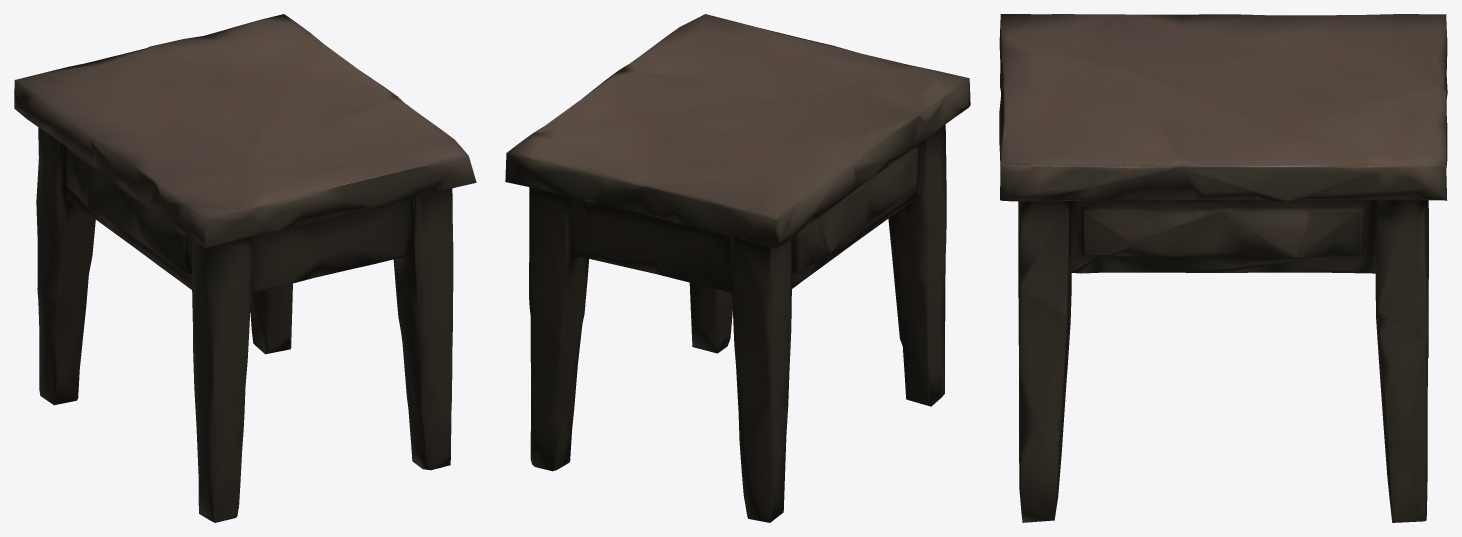
The model's file is side_table_drawer.glb.
3 renders of one model, left to right at view 1: azimuth 30°, elevation 25°; view 2: azimuth 150°, elevation 25°; view 3: azimuth 270°, elevation 25°, orthographic. The views are drawn at different scales.
Parts seen in each view (by area): view 1: tripo_node_23027856-c728-455b-8e85-93840ab5a3c1; view 2: tripo_node_23027856-c728-455b-8e85-93840ab5a3c1; view 3: tripo_node_23027856-c728-455b-8e85-93840ab5a3c1.
Boxes of the visible parts, bbox=[...] form: tripo_node_23027856-c728-455b-8e85-93840ab5a3c1: bbox=[14, 14, 476, 522]; tripo_node_23027856-c728-455b-8e85-93840ab5a3c1: bbox=[505, 14, 970, 522]; tripo_node_23027856-c728-455b-8e85-93840ab5a3c1: bbox=[999, 14, 1447, 522].
Size of the model in its own units: 0.815 by 0.901 by 1.
1 material, 1 textured.
